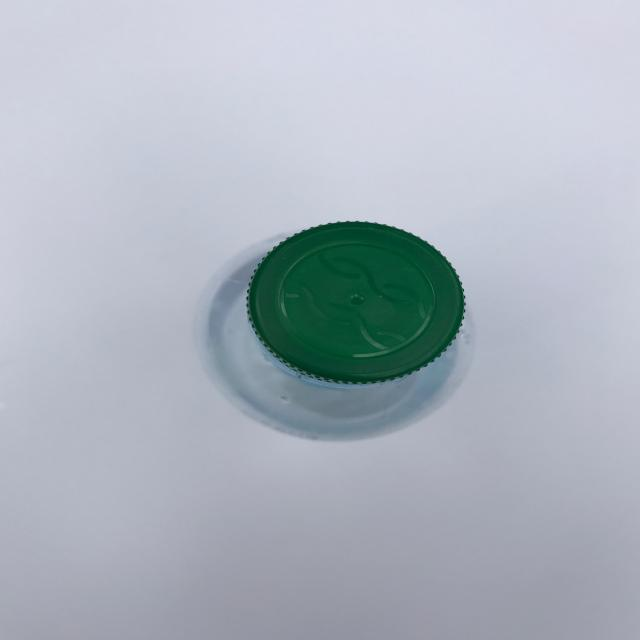plastic: (245, 219, 466, 388)
